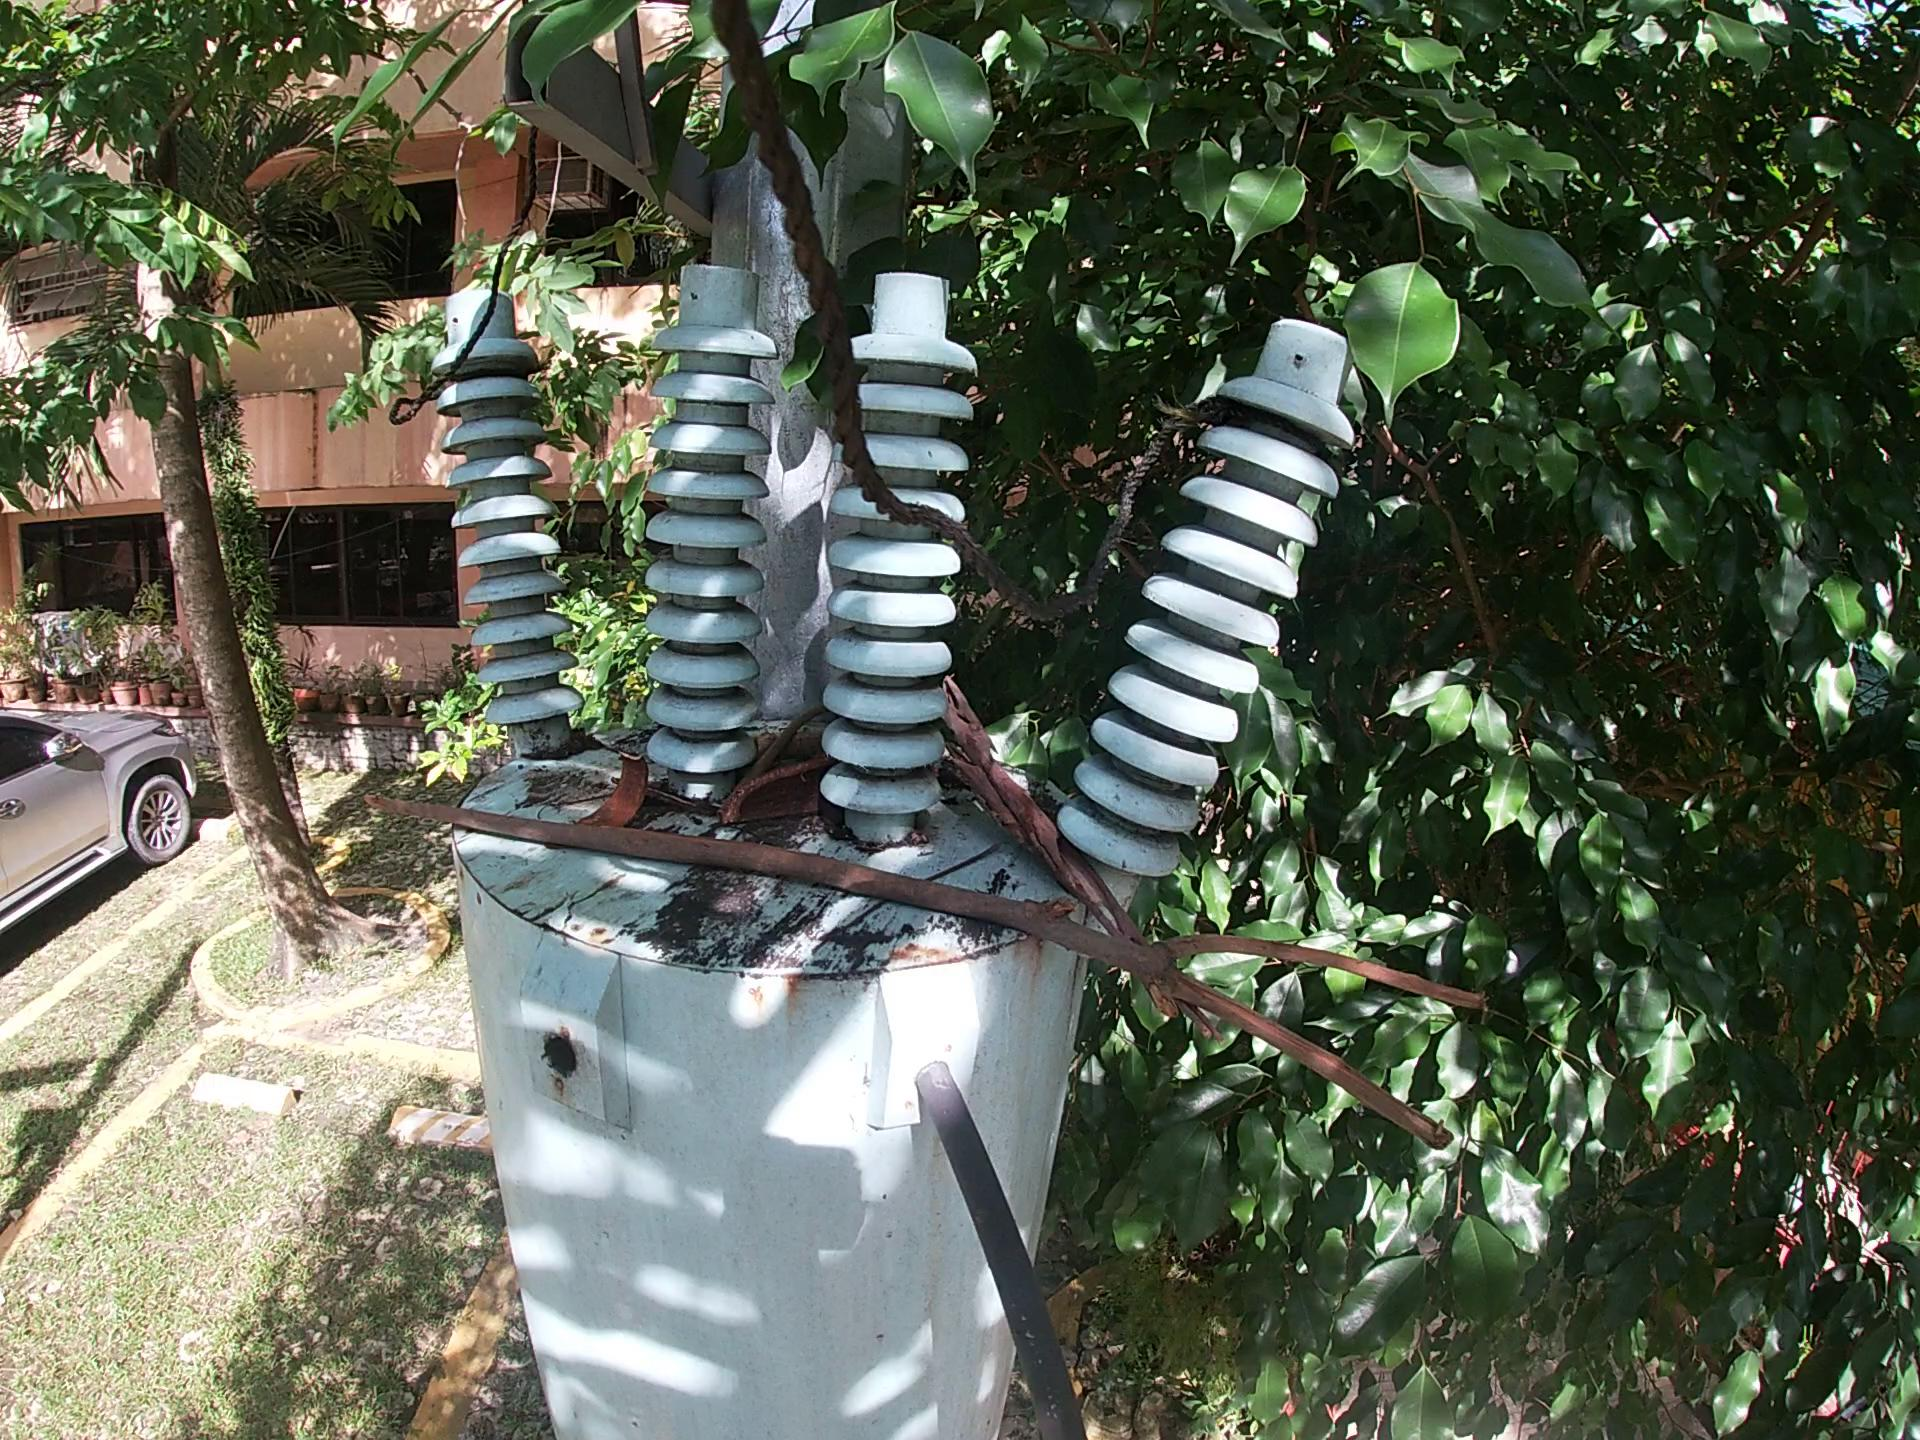mahogany fruit: (715, 759, 844, 833), (573, 746, 656, 835)
tree branch: (357, 784, 1483, 1157), (933, 675, 1225, 1044), (741, 703, 835, 787)
